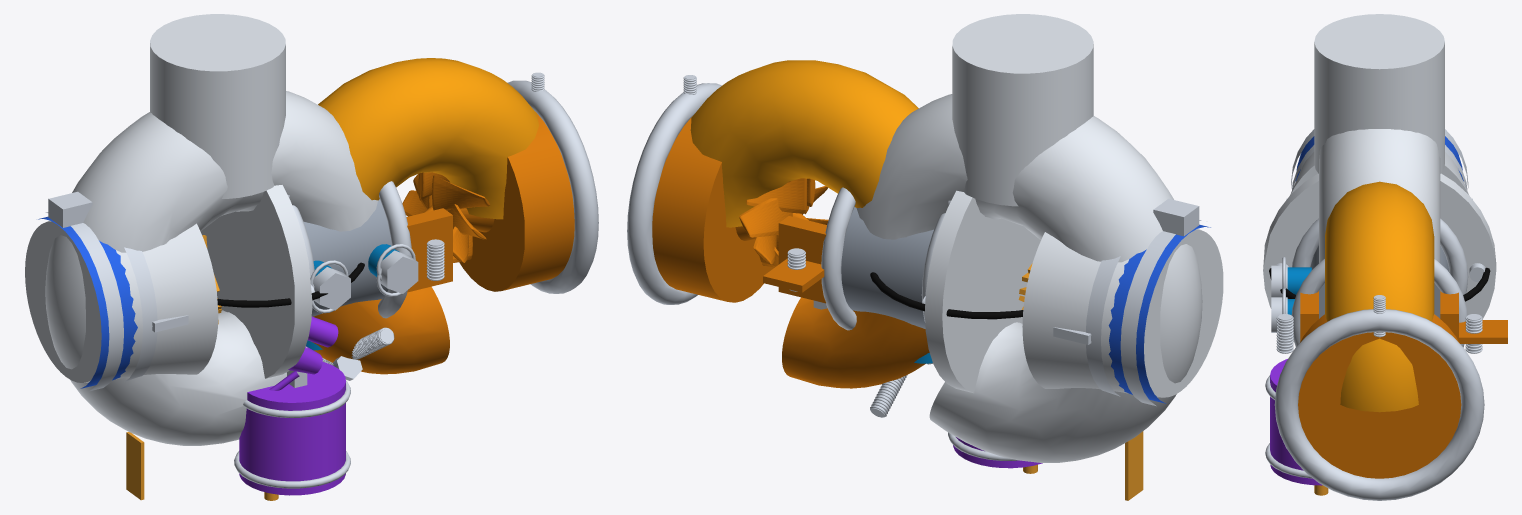
Rendered from turbo_single.glb.
The picture shows the model from 3 angles, left to right: view 1: azimuth 30°, elevation 25°; view 2: azimuth 150°, elevation 25°; view 3: azimuth 270°, elevation 25°; orthographic projection. The views are drawn at different scales.
Parts seen in each view (by area): view 1: Compressor_Volute_Scroll, Inconel_Foil_Turbine_Thermal_Blanket, Compressor_Boost_Outlet_Pipe, Anti_Surge_Ported_Air_Inlet_Snout, Compressor_Seal_Backplate, Turbine_VBand_Exhaust_Flange, DualPort_Wastegate_Canister, Divided_TwinScroll_Turbine_Volute, Turbine_Discharge_VBand_Clamp_Ring, CHRA_Bearing_Center_Housing, Inlet_Coupler_T_Clamp_1, Silicone_Inlet_Coupler_Boot (+12 smaller); view 2: Compressor_Volute_Scroll, Inconel_Foil_Turbine_Thermal_Blanket, Compressor_Boost_Outlet_Pipe, Anti_Surge_Ported_Air_Inlet_Snout, Compressor_Seal_Backplate, Turbine_VBand_Exhaust_Flange, Divided_TwinScroll_Turbine_Volute, CHRA_Bearing_Center_Housing, Turbine_Discharge_VBand_Clamp_Ring, Inlet_Coupler_T_Clamp_1, Silicone_Inlet_Coupler_Boot, CHRA_VBand_Retention_Clamp_Turbine (+9 smaller); view 3: Inconel_Foil_Turbine_Thermal_Blanket, Compressor_Boost_Outlet_Pipe, Turbine_VBand_Exhaust_Flange, Turbine_Discharge_VBand_Clamp_Ring, Compressor_Volute_Scroll, Compressor_Seal_Backplate, CHRA_VBand_Retention_Clamp_Compressor, CHRA_VBand_Retention_Clamp_Turbine, DualPort_Wastegate_Canister, TwinScroll_Internal_Divider_Tongue, Anti_Surge_Ported_Air_Inlet_Snout, Turbine_Manifold_Mount_Foot_B (+13 smaller).
Part boxes in pixels (x1,y1,x2,y2): Compressor_Volute_Scroll: [45, 91, 377, 445]; Inconel_Foil_Turbine_Thermal_Blanket: [318, 58, 538, 219]; Compressor_Boost_Outlet_Pipe: [150, 14, 285, 198]; Anti_Surge_Ported_Air_Inlet_Snout: [25, 220, 218, 382]; Compressor_Seal_Backplate: [200, 185, 312, 378]; Turbine_VBand_Exhaust_Flange: [459, 111, 574, 291]; DualPort_Wastegate_Canister: [239, 362, 345, 495]; Divided_TwinScroll_Turbine_Volute: [312, 286, 449, 374]; Turbine_Discharge_VBand_Clamp_Ring: [507, 80, 598, 293]; CHRA_Bearing_Center_Housing: [303, 199, 391, 316]; Inlet_Coupler_T_Clamp_1: [45, 191, 123, 391]; Silicone_Inlet_Coupler_Boot: [38, 216, 137, 388]; Compressor_Volute_Scroll: [856, 94, 1202, 462]; Inconel_Foil_Turbine_Thermal_Blanket: [690, 60, 918, 227]; Compressor_Boost_Outlet_Pipe: [952, 14, 1093, 206]; Anti_Surge_Ported_Air_Inlet_Snout: [1022, 228, 1223, 397]; Compressor_Seal_Backplate: [925, 190, 1040, 393]; Turbine_VBand_Exhaust_Flange: [652, 116, 774, 302]; Divided_TwinScroll_Turbine_Volute: [782, 181, 929, 388]; CHRA_Bearing_Center_Housing: [841, 207, 933, 328]; Turbine_Discharge_VBand_Clamp_Ring: [627, 83, 721, 304]; Inlet_Coupler_T_Clamp_1: [1120, 198, 1201, 406]; Silicone_Inlet_Coupler_Boot: [1108, 224, 1210, 403]; CHRA_VBand_Retention_Clamp_Turbine: [821, 187, 856, 330]; Inconel_Foil_Turbine_Thermal_Blanket: [1325, 181, 1434, 412]; Compressor_Boost_Outlet_Pipe: [1314, 14, 1444, 173]; Turbine_VBand_Exhaust_Flange: [1298, 314, 1461, 478]; Turbine_Discharge_VBand_Clamp_Ring: [1274, 309, 1484, 500]; Compressor_Volute_Scroll: [1319, 129, 1440, 262]; Compressor_Seal_Backplate: [1263, 173, 1496, 341]; CHRA_VBand_Retention_Clamp_Compressor: [1292, 218, 1468, 294]; CHRA_VBand_Retention_Clamp_Turbine: [1291, 258, 1467, 347]; DualPort_Wastegate_Canister: [1270, 359, 1322, 485]; TwinScroll_Internal_Divider_Tongue: [1459, 320, 1507, 343]; Anti_Surge_Ported_Air_Inlet_Snout: [1290, 152, 1468, 194]; Turbine_Manifold_Mount_Foot_B: [1300, 291, 1318, 341].
Size of the model in its own units: 0.3695 by 0.3096 by 0.1634.
